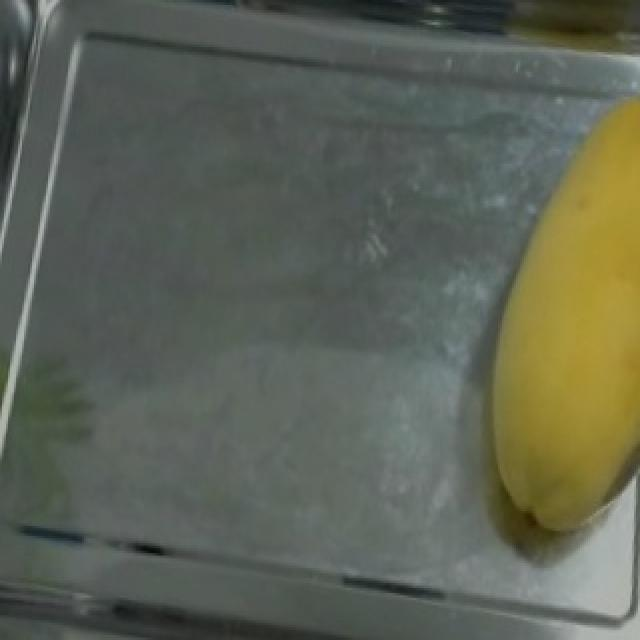fruit: (456, 184, 640, 558)
